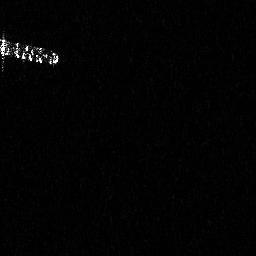ship: (1, 35, 61, 72)
